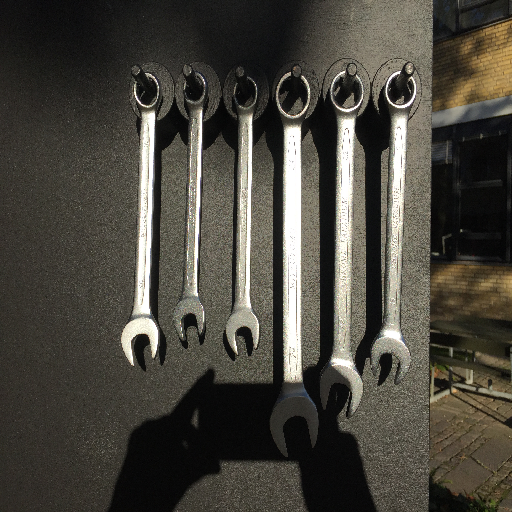bottom: (269, 389, 320, 460), (316, 356, 365, 421), (369, 329, 414, 387), (119, 314, 161, 368), (223, 308, 262, 359), (171, 294, 207, 343)
top: (271, 70, 312, 123), (327, 69, 365, 116), (382, 69, 418, 113), (131, 71, 164, 112), (231, 73, 260, 115), (181, 69, 210, 108)
